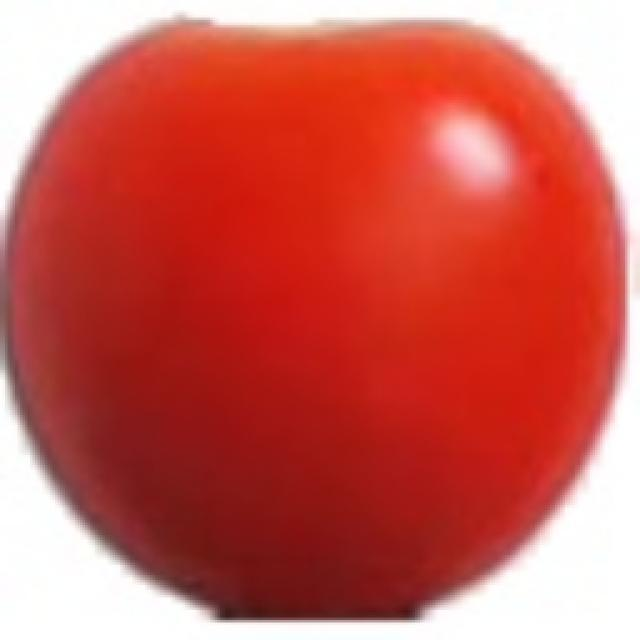tomato: (1, 20, 630, 622)
